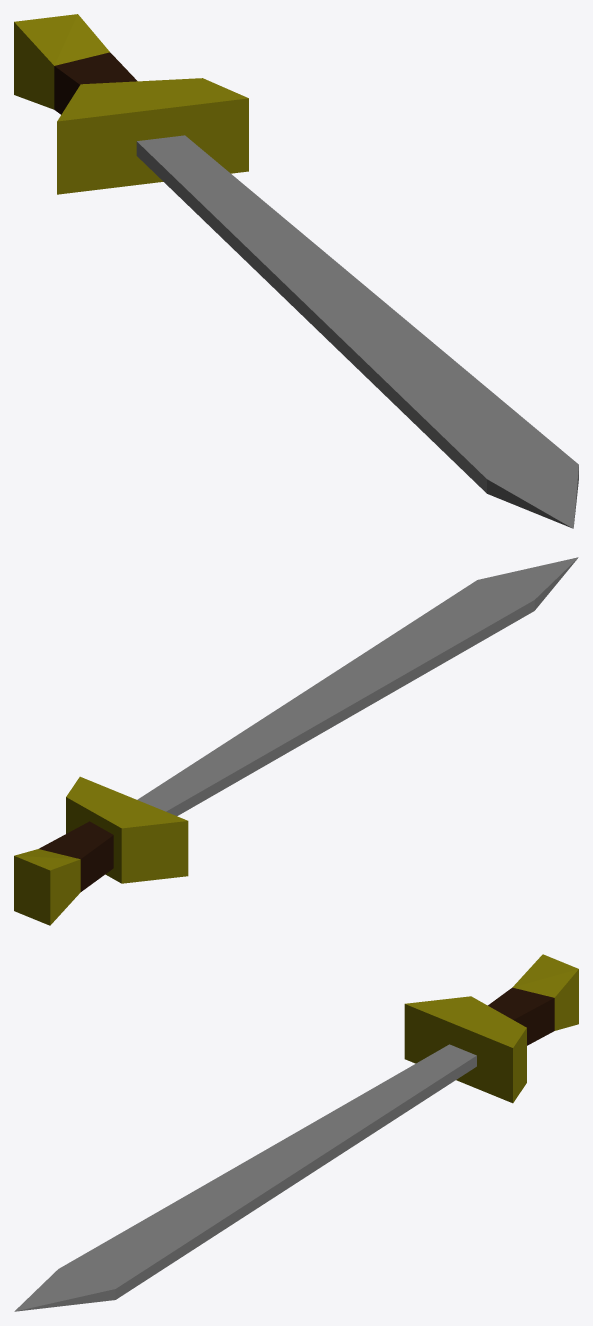
The model's file is iron_sword_inventory.obj.
3 views of the same model, one above another, from view 1: azimuth 30°, elevation 25°; view 2: azimuth 150°, elevation 25°; view 3: azimuth 330°, elevation 25° (orthographic). The views are drawn at different scales.
Parts seen in each view (by area): view 1: runescapemodel; view 2: runescapemodel; view 3: runescapemodel.
Boxes of the visible parts, <box> form: runescapemodel: <box>14,14,578,528</box>; runescapemodel: <box>14,557,578,925</box>; runescapemodel: <box>14,954,578,1311</box>.
Bounding box in the file's own units: 13 × 5 × 78.
